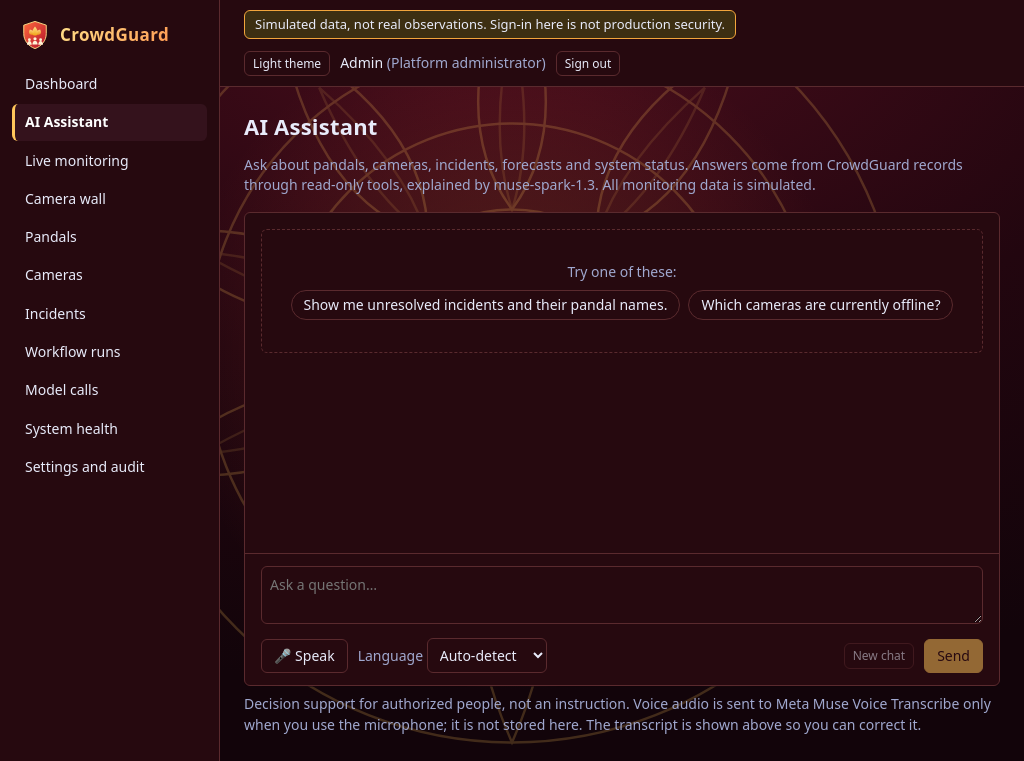
Assistant page › explains a denied microphone and keeps typing available
Click the button "🎤 Speak".
click(304, 656)  # box 261,639 -> 348,673
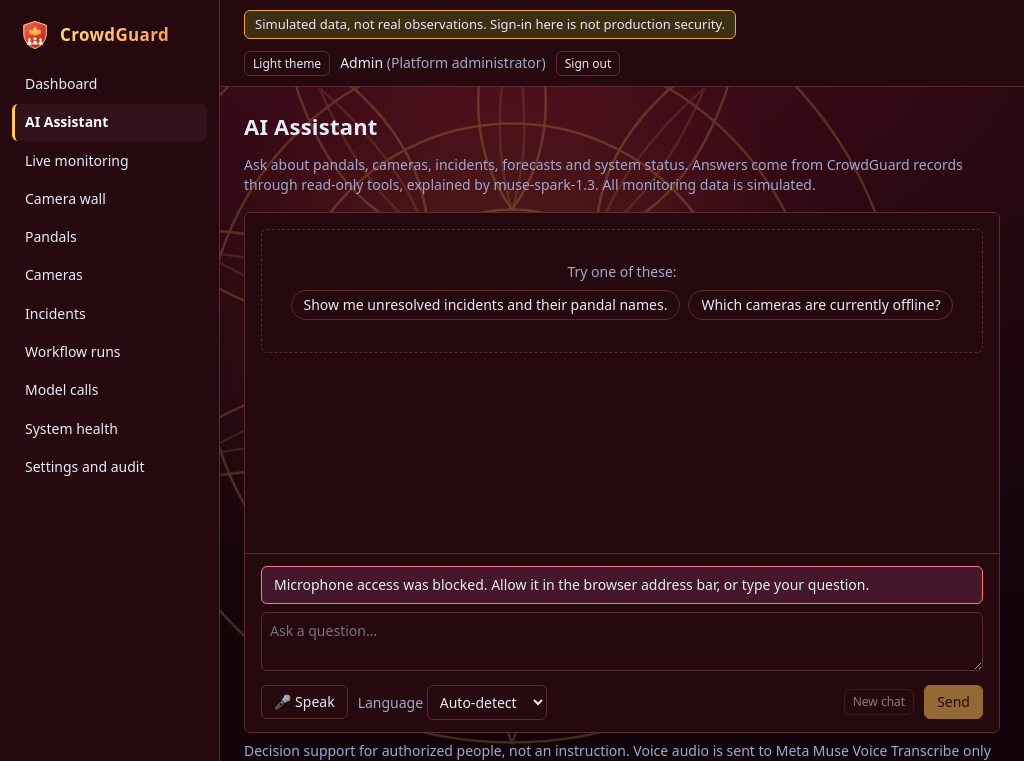
Expected: the text box named "Your question" is enabled, 261,612 -> 983,671
Expected: the text "Microphone access was blocked" is shown, 274,575 -> 869,594
